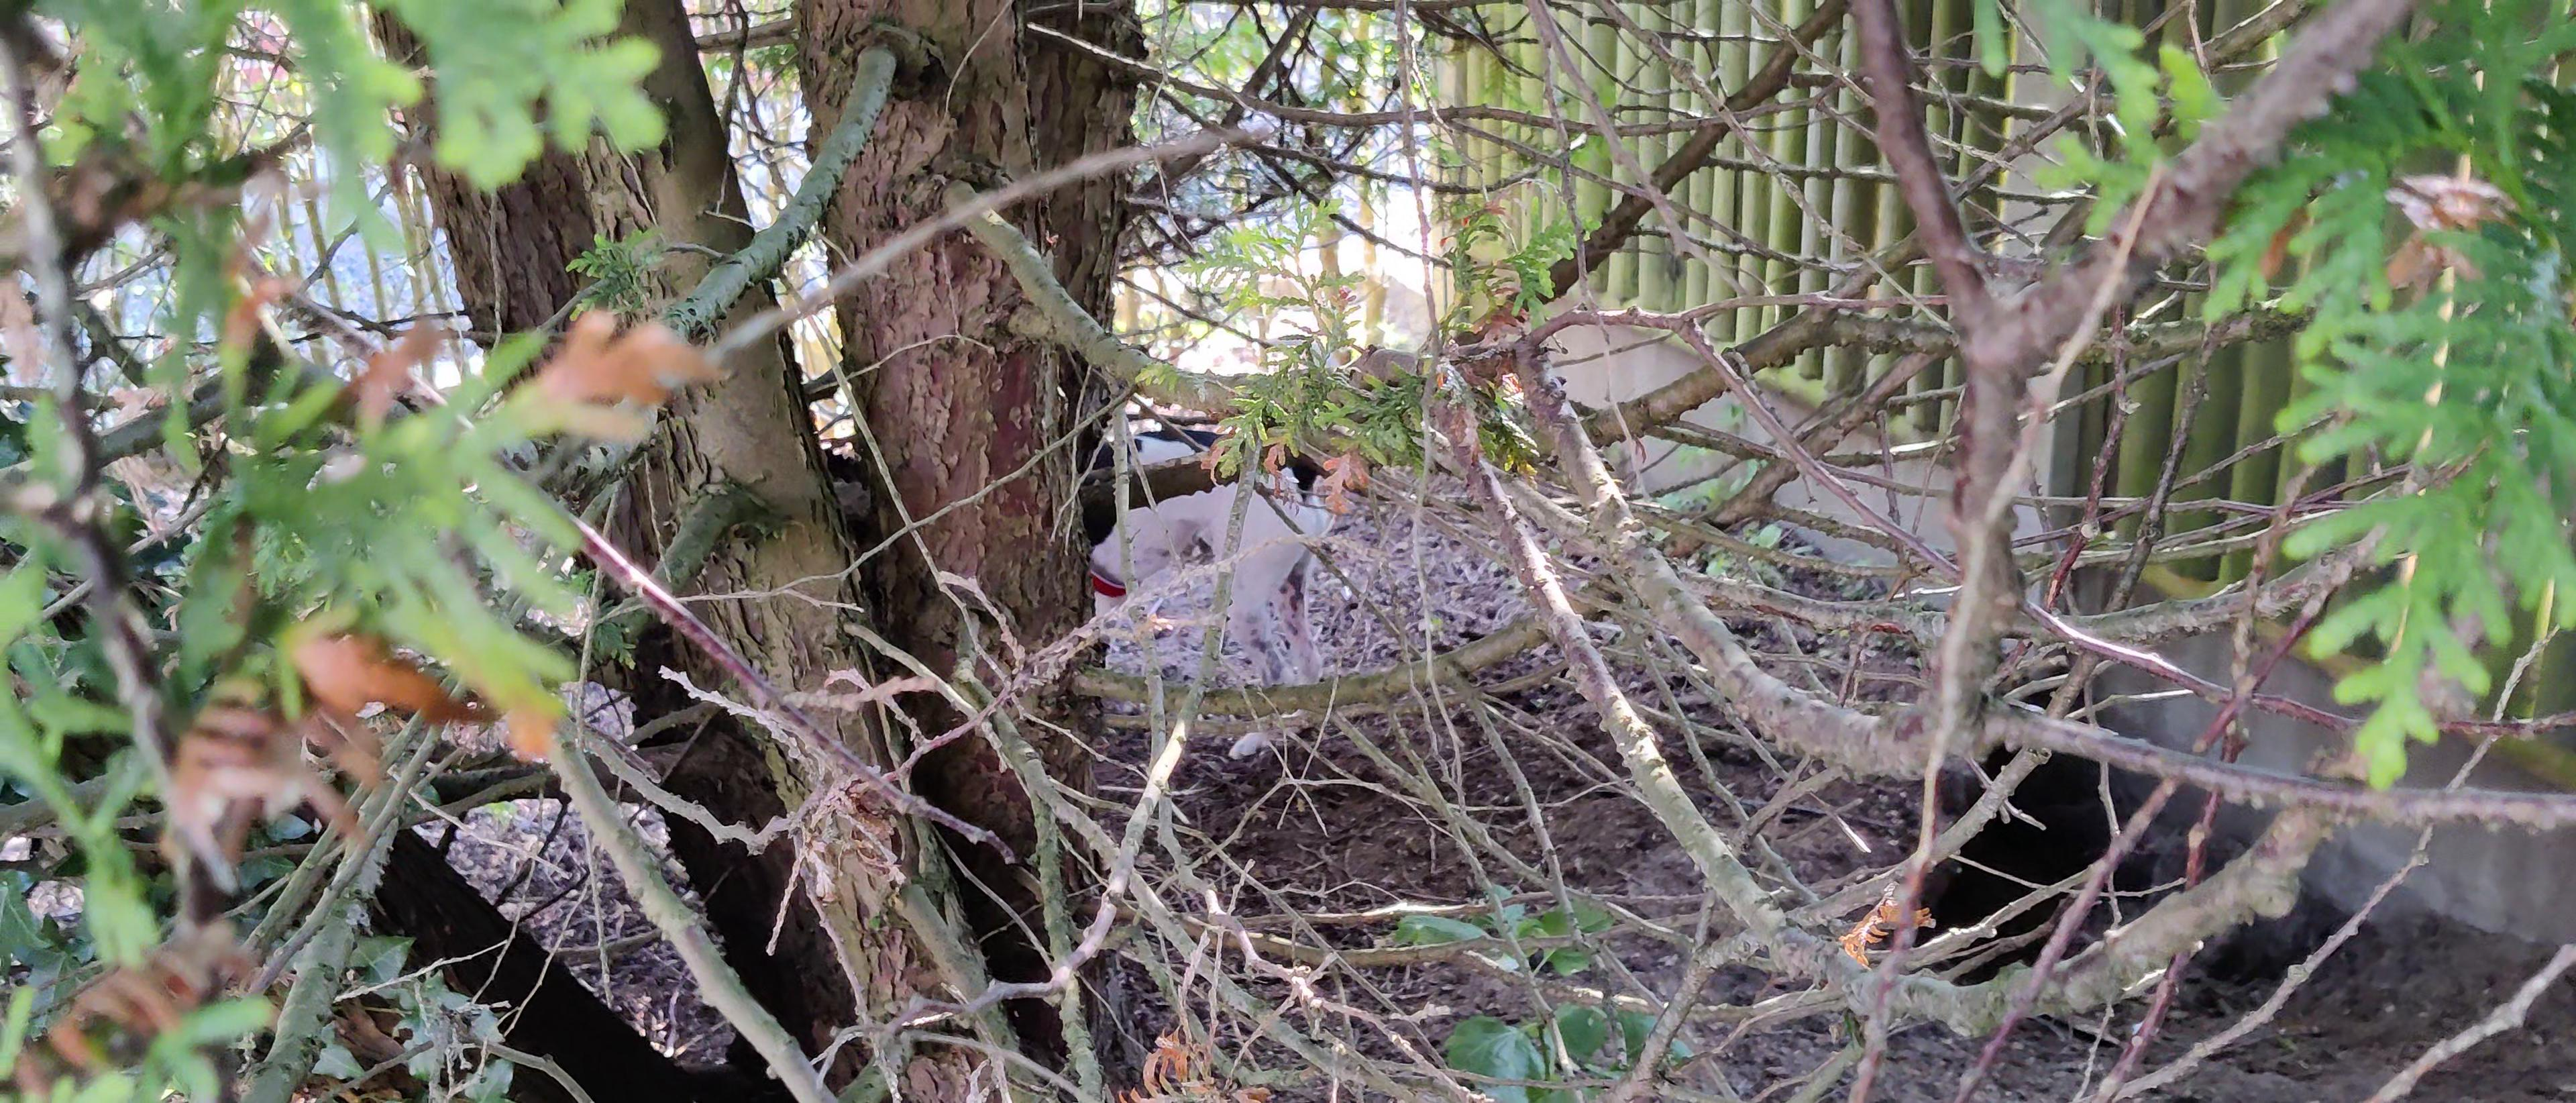Dog: (1079, 335, 1377, 768)
